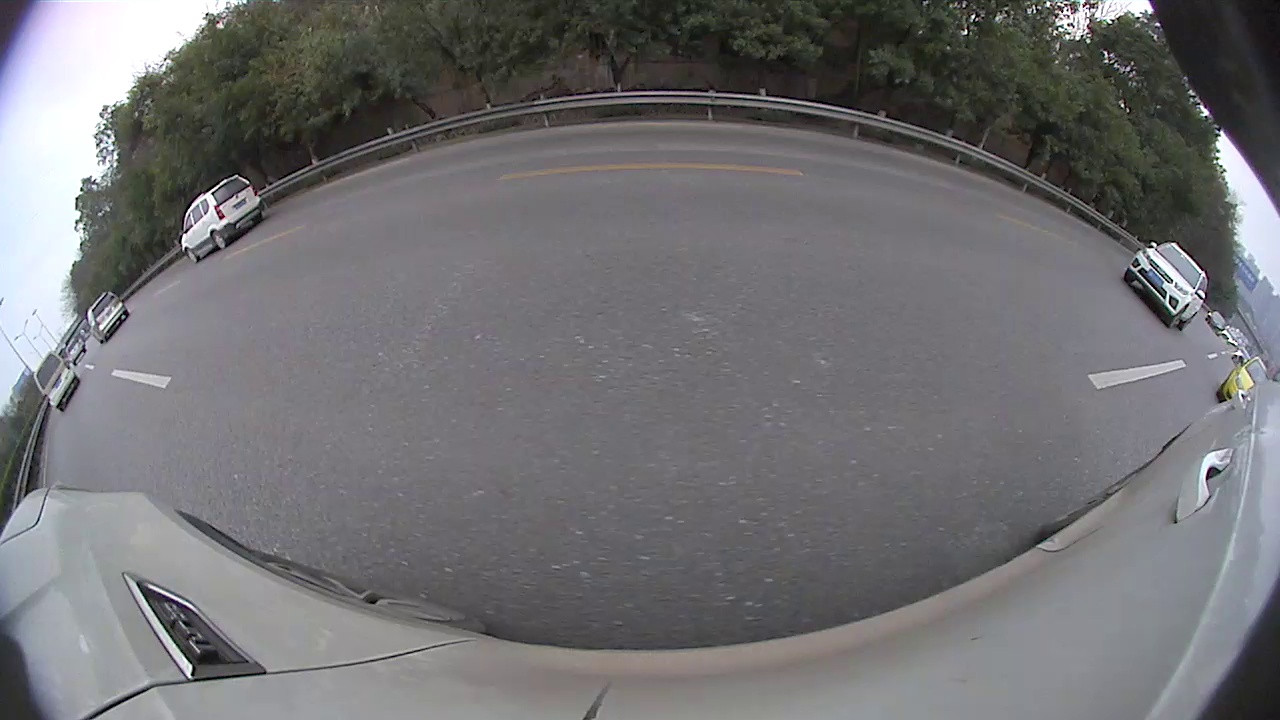car: (177, 172, 264, 265), (1123, 239, 1210, 332), (1214, 355, 1273, 410), (33, 350, 82, 413), (86, 290, 130, 345), (65, 337, 87, 367), (1205, 309, 1227, 335)
front: (1169, 307, 1185, 329), (185, 247, 198, 264)
rear: (212, 230, 227, 251)
